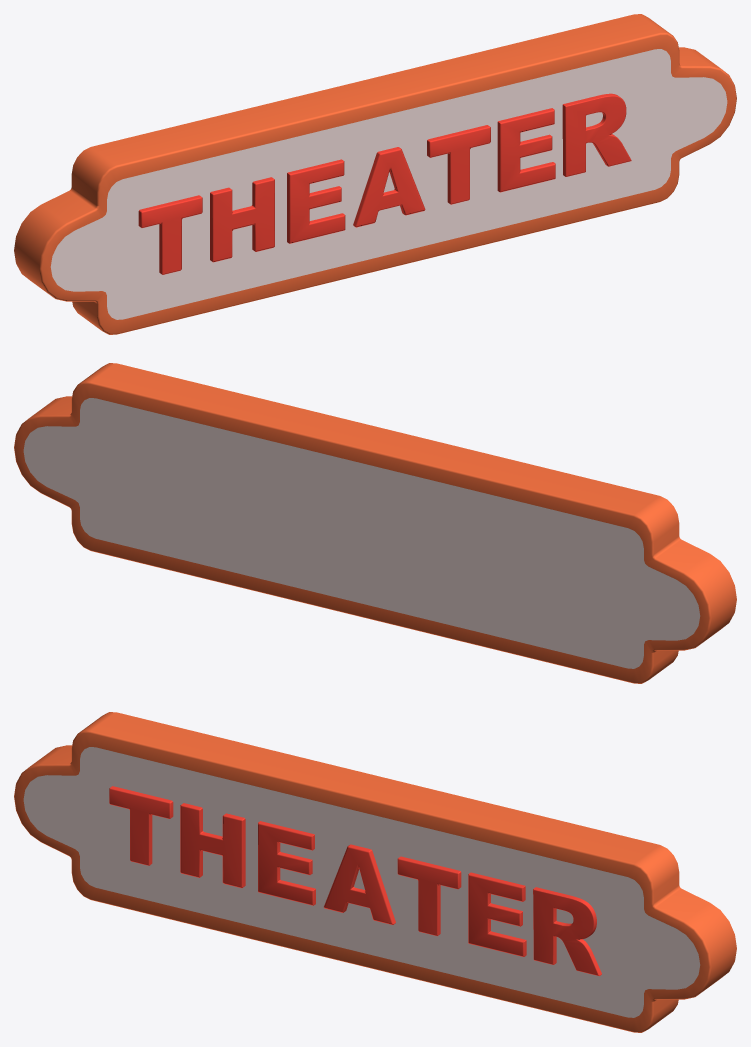
File: Public_12_Theater_Sign_1.glb
The picture shows the model from 3 angles, top to bottom: view 1: azimuth 30°, elevation 25°; view 2: azimuth 150°, elevation 25°; view 3: azimuth 330°, elevation 25°; orthographic projection.
Visible parts, largest first — view 1: Public_12_Theater_Sign_1; view 2: Public_12_Theater_Sign_1; view 3: Public_12_Theater_Sign_1.
Part boxes in pixels (left/top/right/bottom): Public_12_Theater_Sign_1: left=14, top=14, right=736, bottom=334; Public_12_Theater_Sign_1: left=14, top=363, right=736, bottom=683; Public_12_Theater_Sign_1: left=14, top=712, right=736, bottom=1032.
Bounding box in the file's own units: 5.24 × 1.22 × 0.3892.
1 material, 1 textured.
